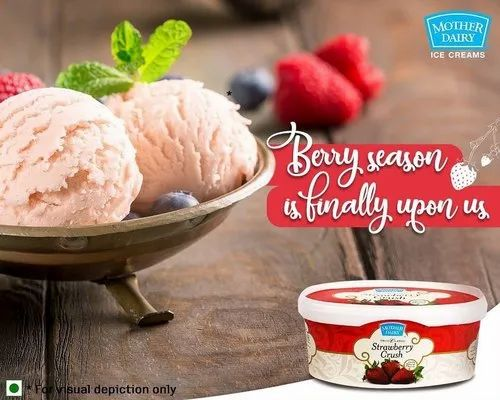Mother_Dairy: (416, 8, 495, 63)
